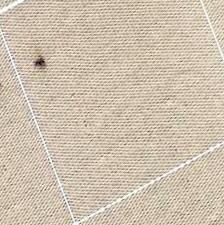stain: (29, 48, 51, 74)
